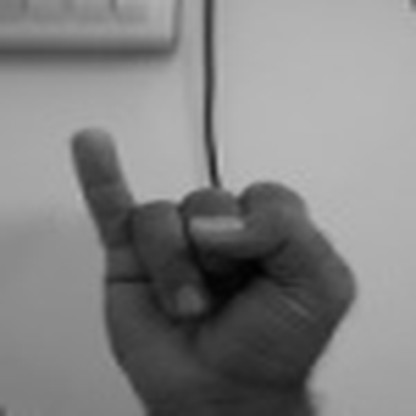i: (63, 114, 362, 408)
